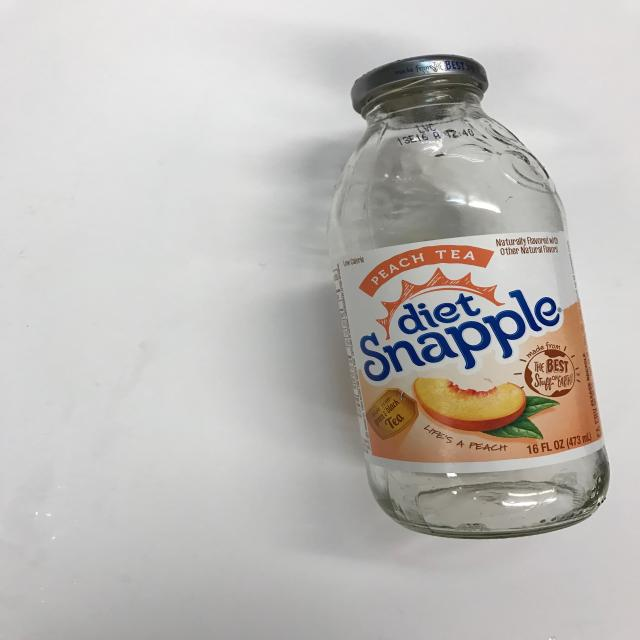glass: (326, 53, 611, 540)
